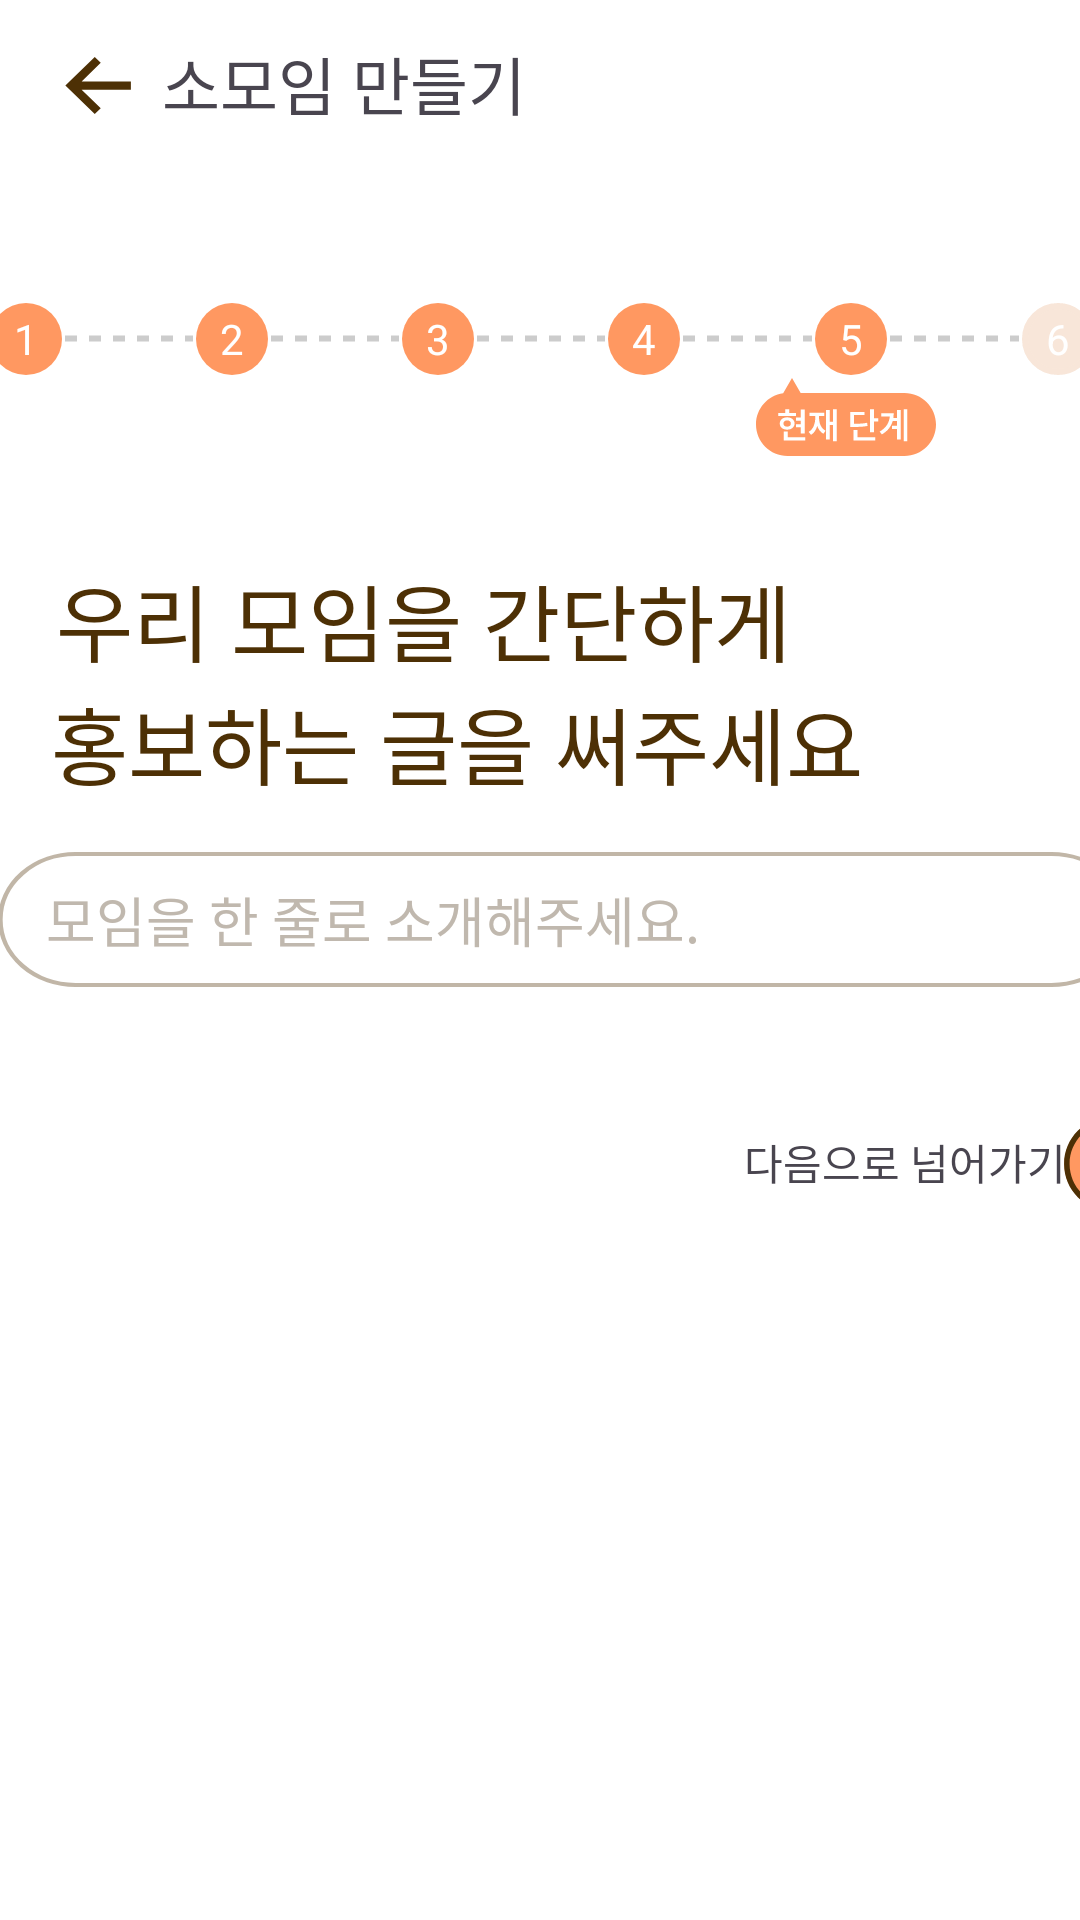

Icons on this 1080w x 1920h Android screen, each with its box as (x1, y1, x2, y2):
meeting backbutton: (65, 57, 131, 114)
